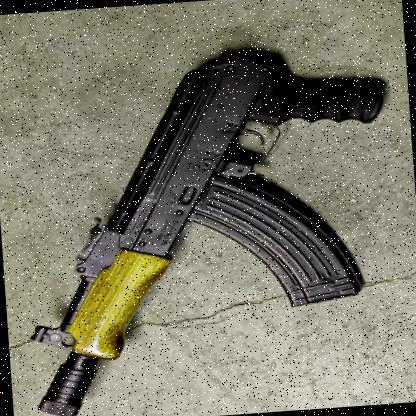rifle: (0, 24, 409, 416)
